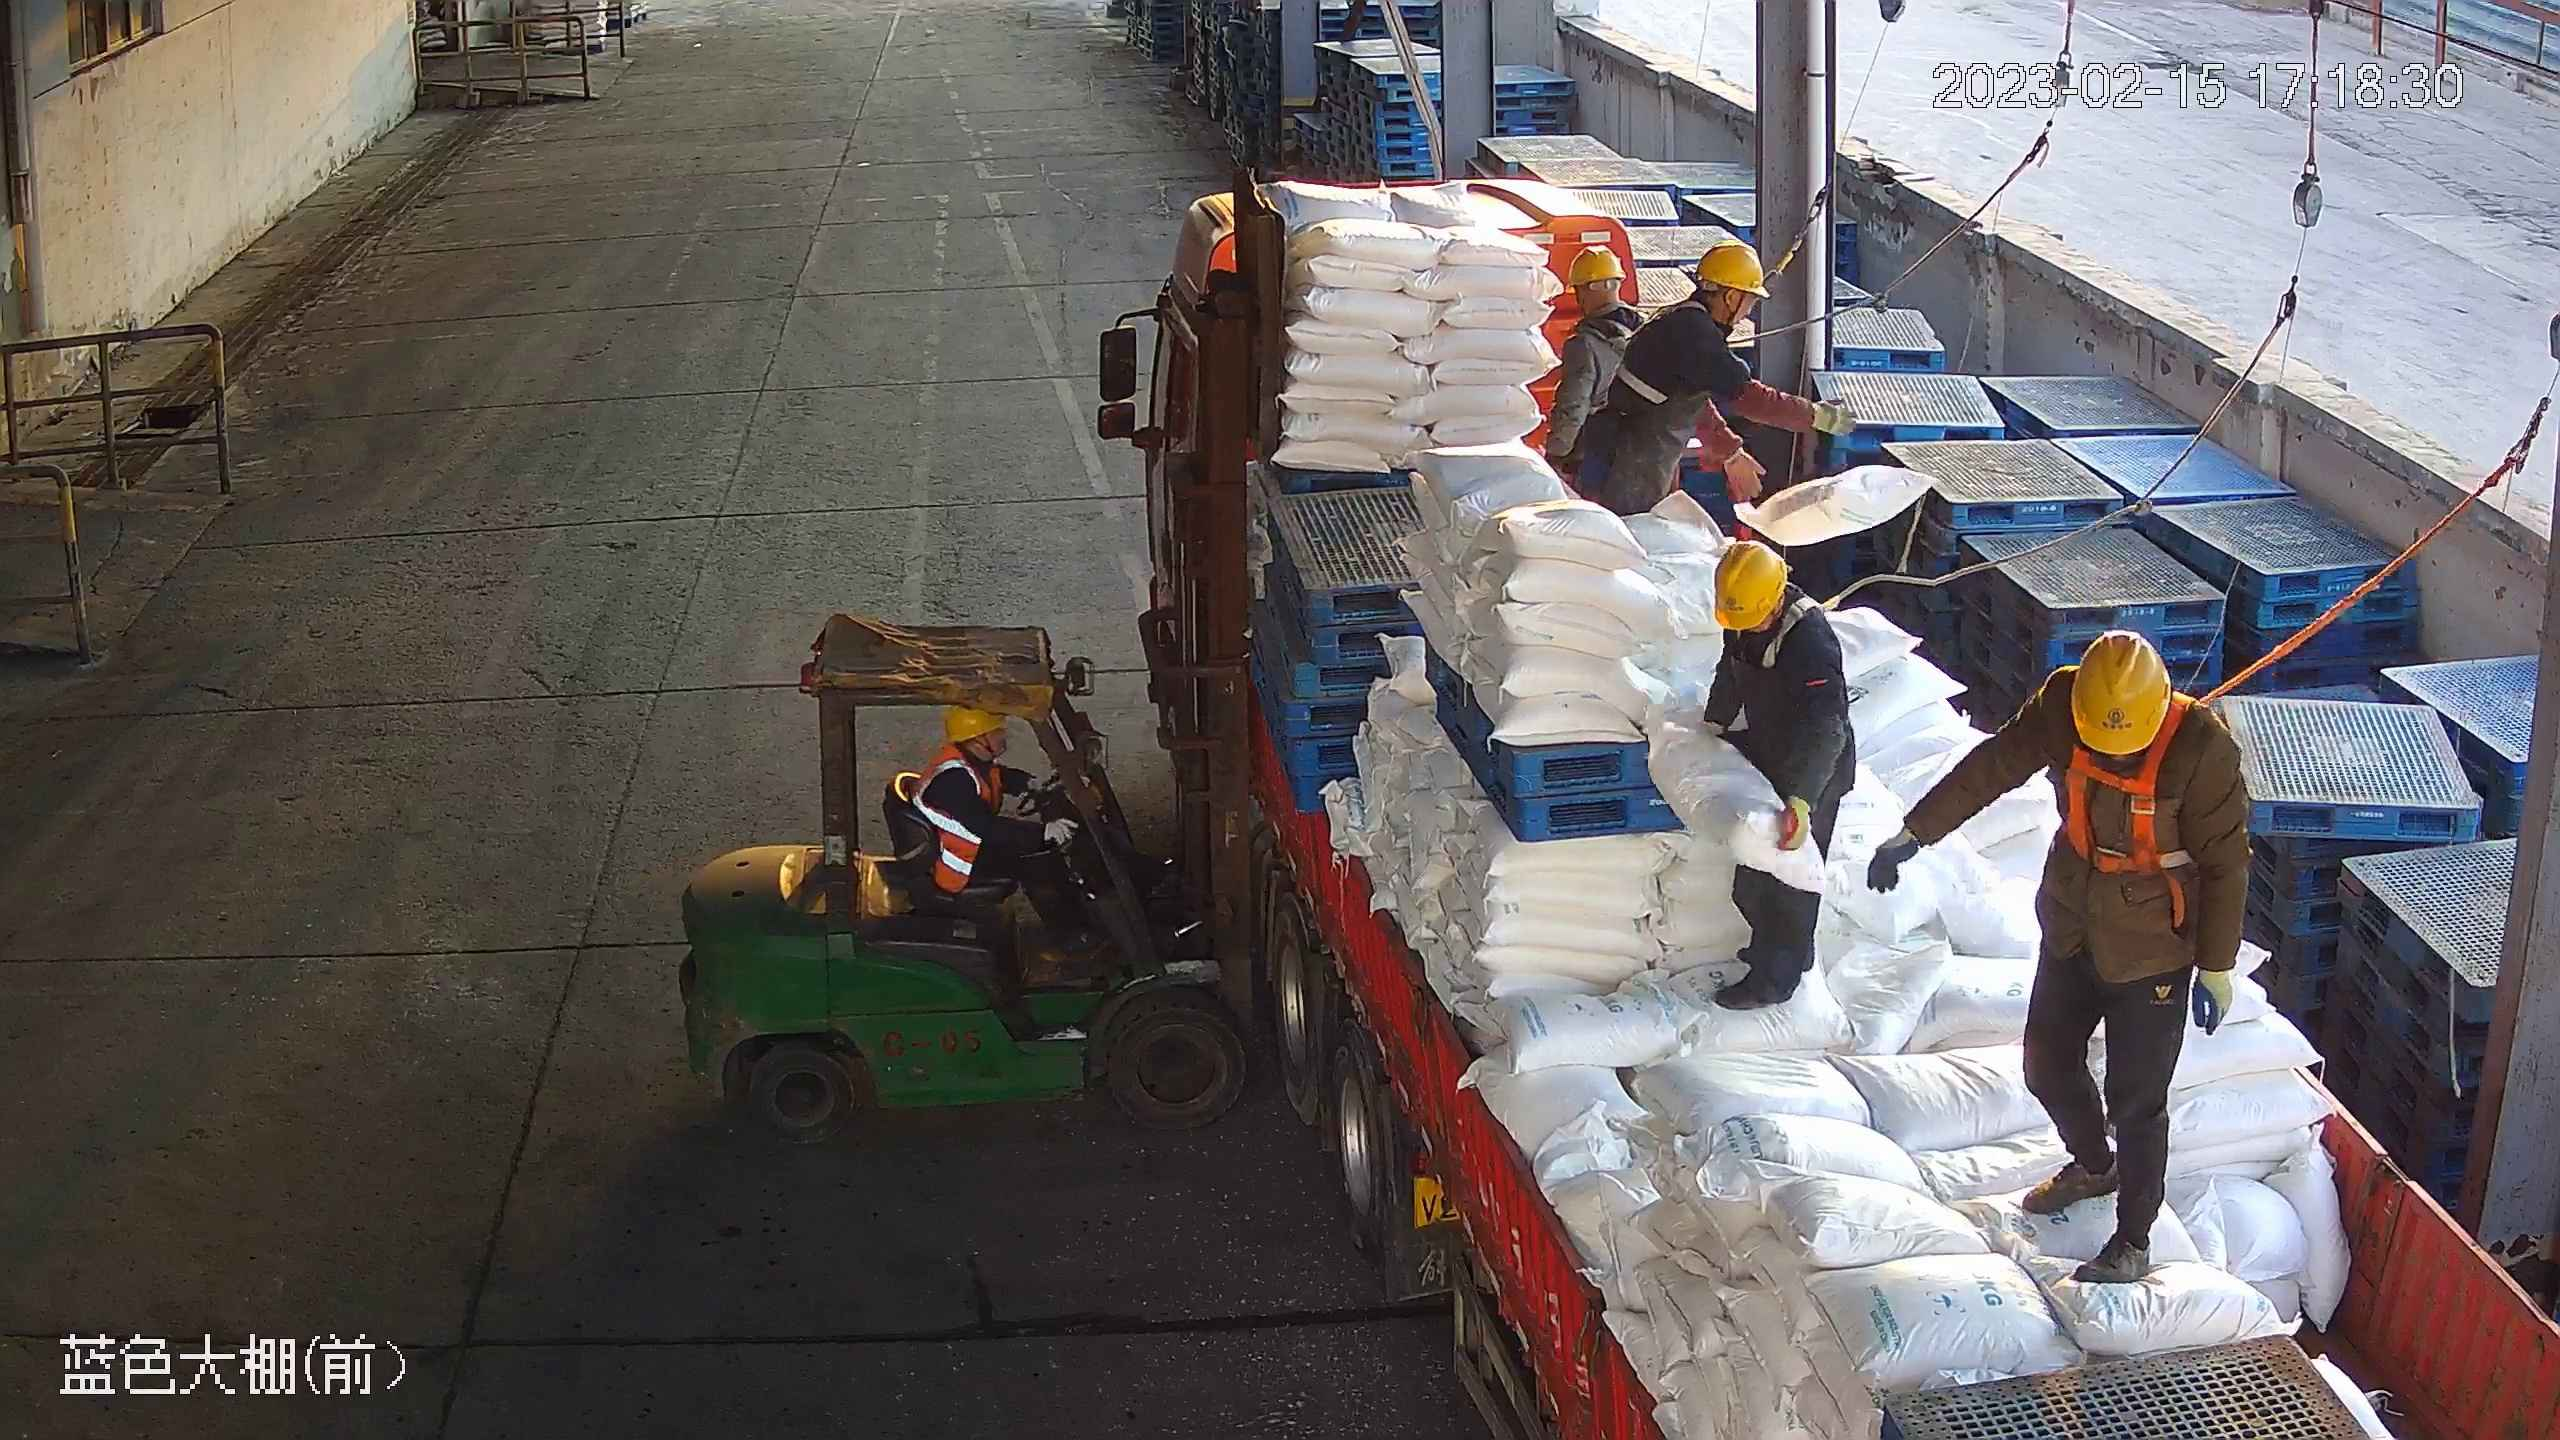belt: (2053, 753, 2188, 878), (1625, 311, 1702, 406), (1764, 597, 1820, 662)
head: (2049, 634, 2225, 790), (1716, 546, 1828, 660), (1662, 243, 1765, 357), (921, 702, 1007, 804), (1565, 241, 1642, 350)
helmet: (2072, 630, 2172, 751), (1707, 541, 1790, 629), (1699, 241, 1767, 304), (1565, 244, 1625, 288), (942, 704, 1004, 746)
people: (1863, 632, 2260, 1288), (1699, 543, 1856, 1015), (1593, 246, 1851, 510), (911, 702, 1102, 958)
truck: (1083, 164, 2560, 1440)
